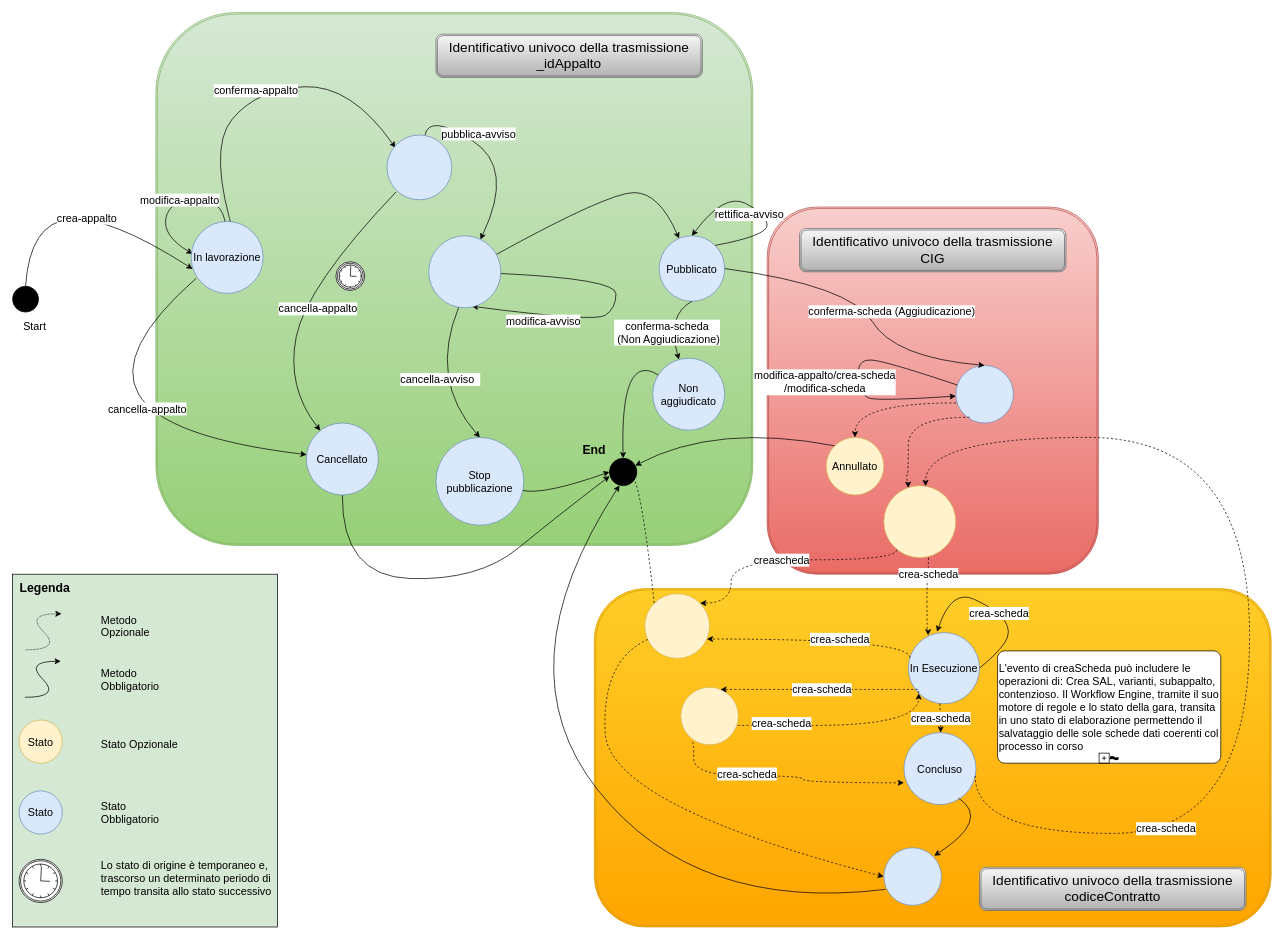
Some shapes in this 1284 by 940 pixel diagram are drawn without their labels. Here are the shapes that lost their labels. From the top down, the centre of each, then its label:
At point 419,167: "Confermato".
At point 464,271: "In attesa pubblicazione".
At point 984,394: "Aggiudicato".
At point 919,521: "Sottoscrizione contratto".
At point 677,625: "Interruzione anticipata".
At point 709,716: "Sospeso".
At point 912,876: "Collaudato".
